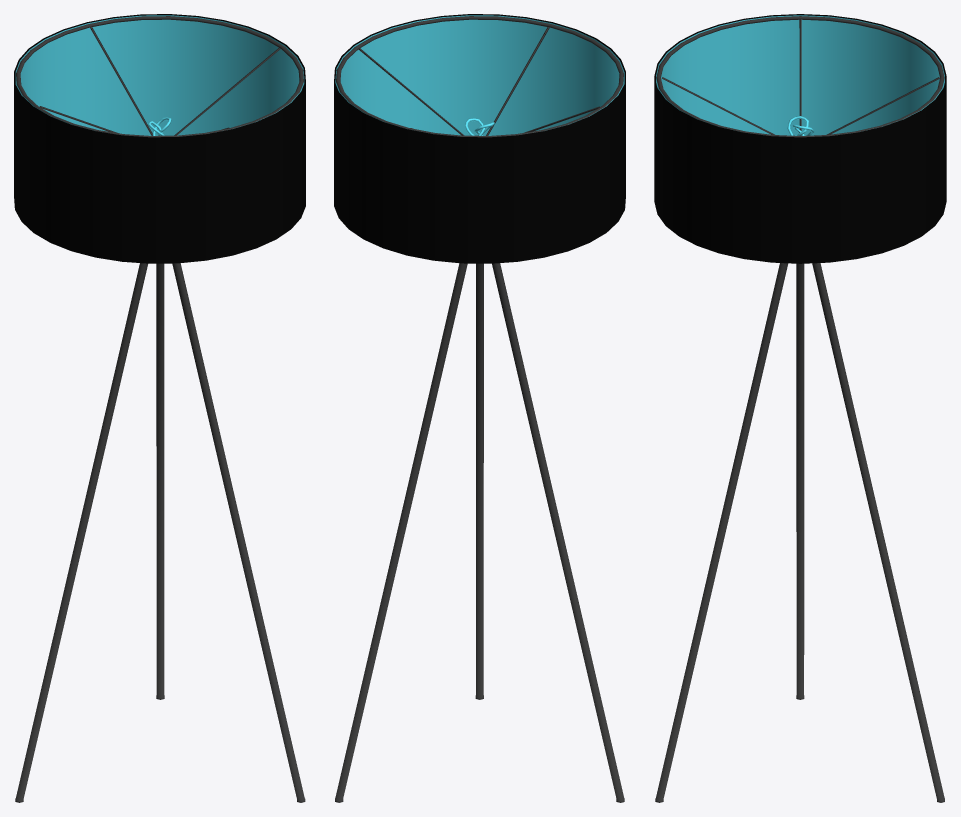
File: SM_FloorLight_021.FBX
3 renders of one model, left to right at view 1: azimuth 30°, elevation 25°; view 2: azimuth 150°, elevation 25°; view 3: azimuth 270°, elevation 25°, orthographic.
Parts seen in each view (by area): view 1: SM_FloorLight_021; view 2: SM_FloorLight_021; view 3: SM_FloorLight_021.
Part boxes in pixels (x1,y1,x2,y2): SM_FloorLight_021: (14,14,305,802); SM_FloorLight_021: (334,14,625,802); SM_FloorLight_021: (654,14,946,802).
Bounding box in the file's own units: 67.04 × 62.56 × 163.
